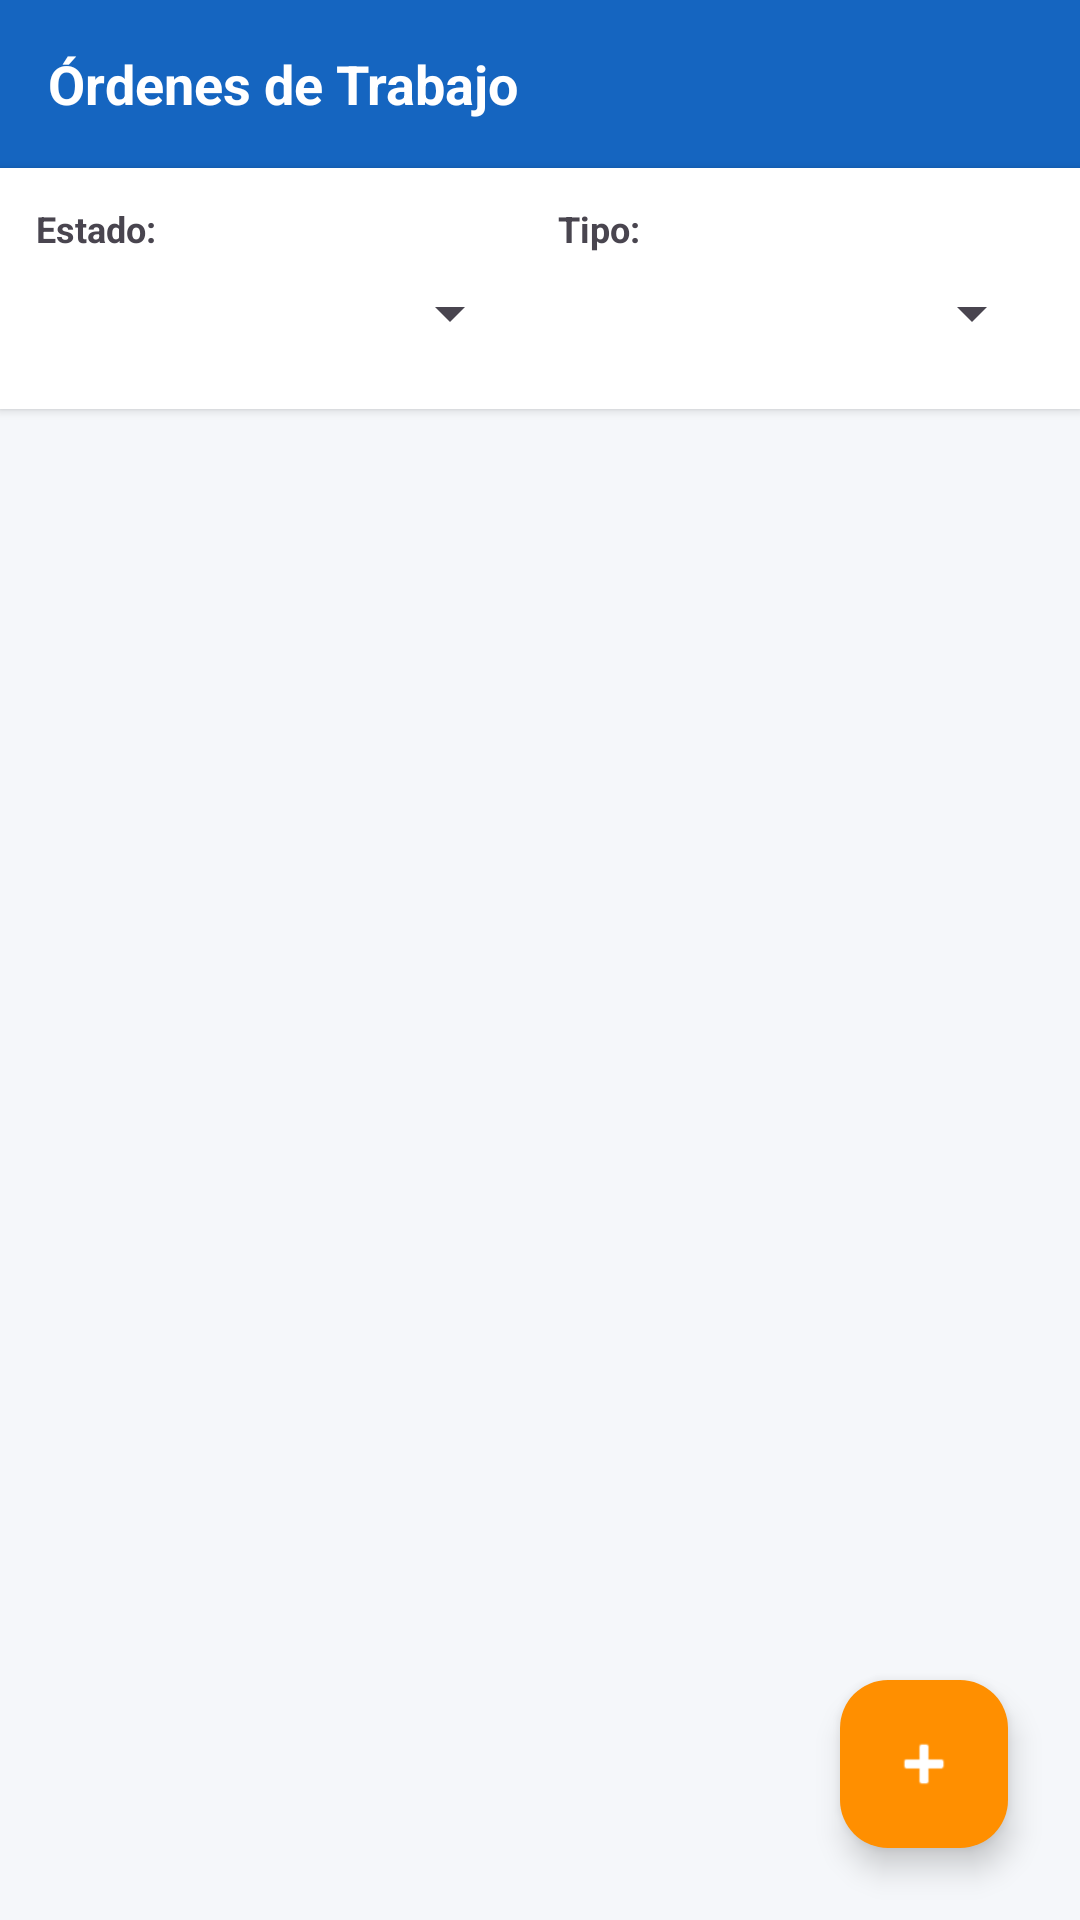

Named icons in this screenshot (1080 x 1920) and their bounding boxes, (x1, y1, x2, y2):
Nueva Orden: (840, 1680, 1008, 1848)
